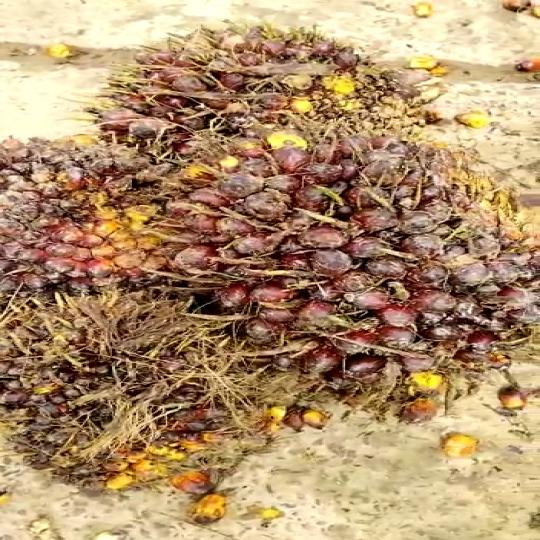kurang masak: (0, 32, 531, 502)
